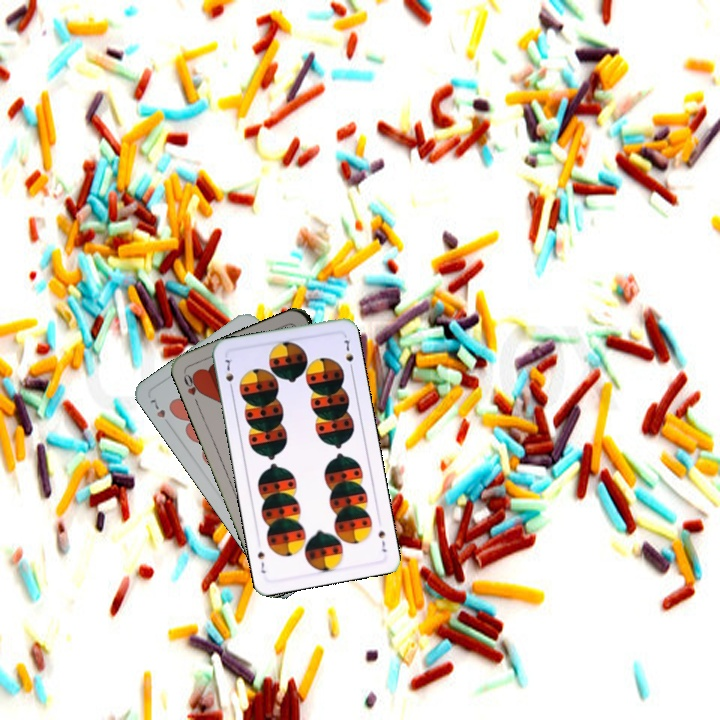H7: (146, 394, 173, 429)
HO: (180, 369, 205, 408)
S7: (221, 355, 236, 394), (374, 527, 389, 555)
